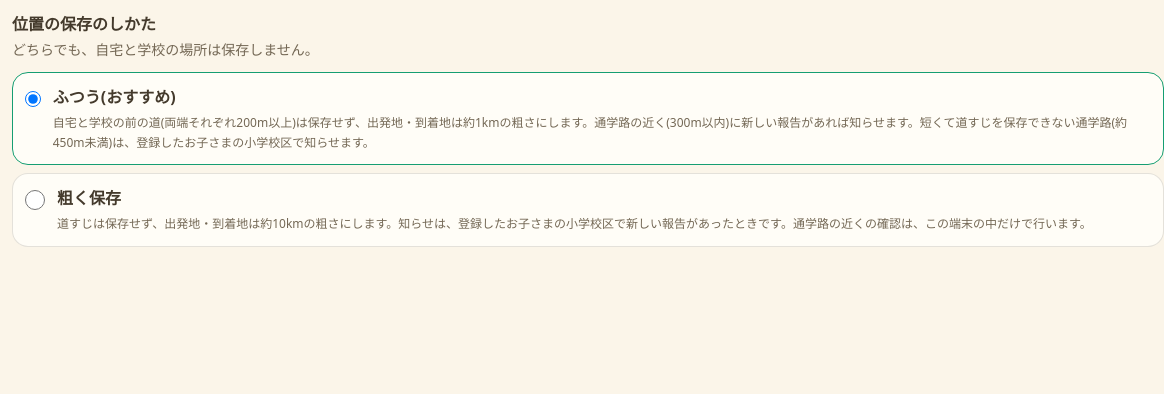
Test case: LocationPrecisionSettings(位置の保存のしかた) › 粗く保存は、保存済みの道すじも消えることを画面の中で確かめてから保存する
Expected: the radio button labelled "ふつう" is checked, [25, 89, 41, 109]
Click the radio button labelled "粗く保存".
click(35, 200)  # box [25, 190, 45, 210]
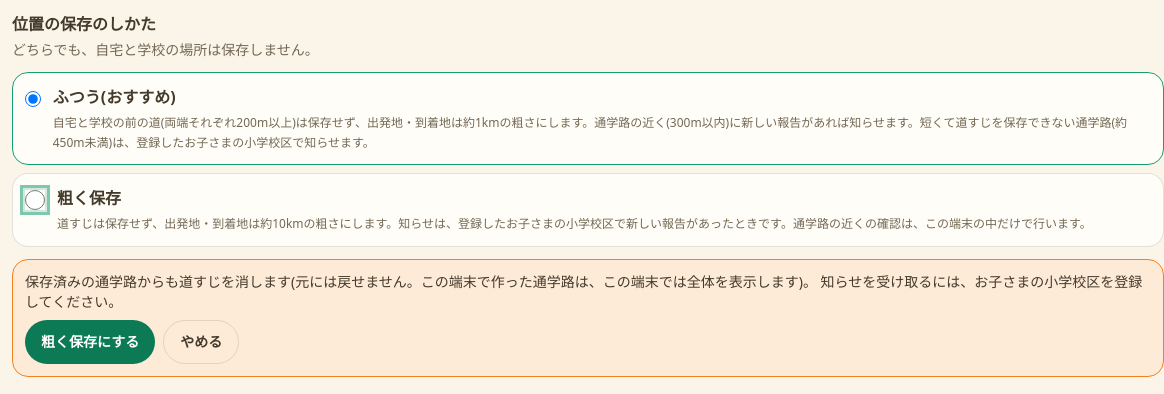
Now the text "保存済みの通学路からも道すじを消します" is shown, box [25, 272, 1142, 310]
Click the button "粗く保存にする".
click(90, 342)  # box [25, 320, 155, 364]
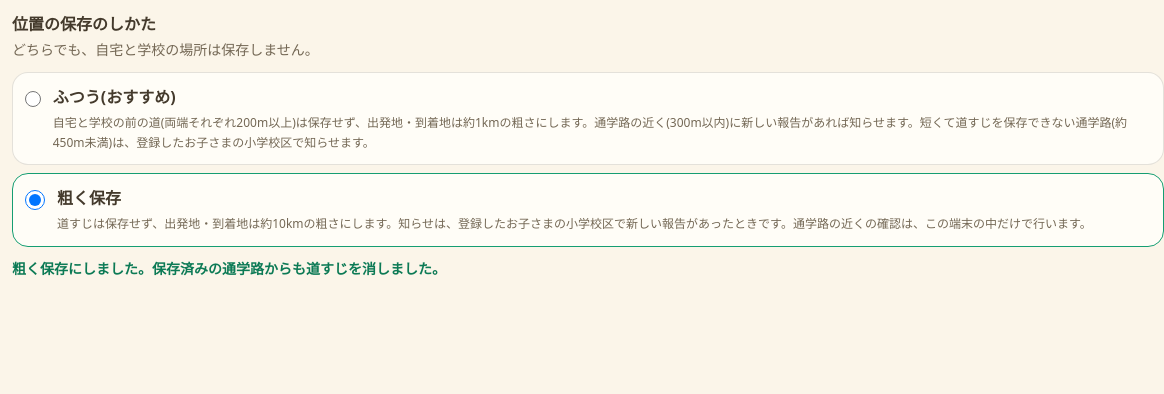
Now the radio button labelled "粗く保存" is checked, box [25, 190, 45, 210]
Now the message shows "粗く保存にしました", box [12, 258, 446, 278]
